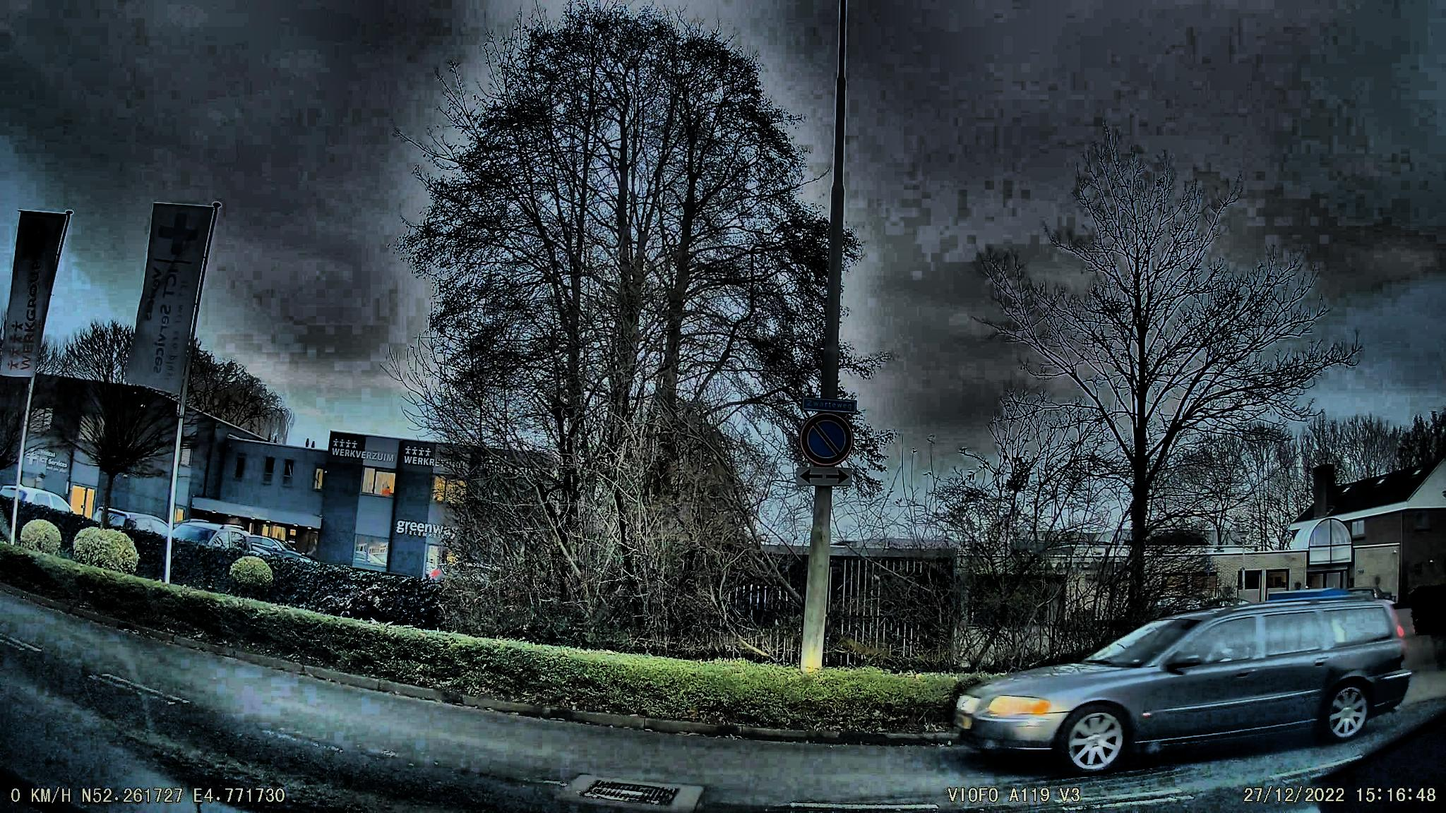Roads: (0, 589, 1446, 813)
